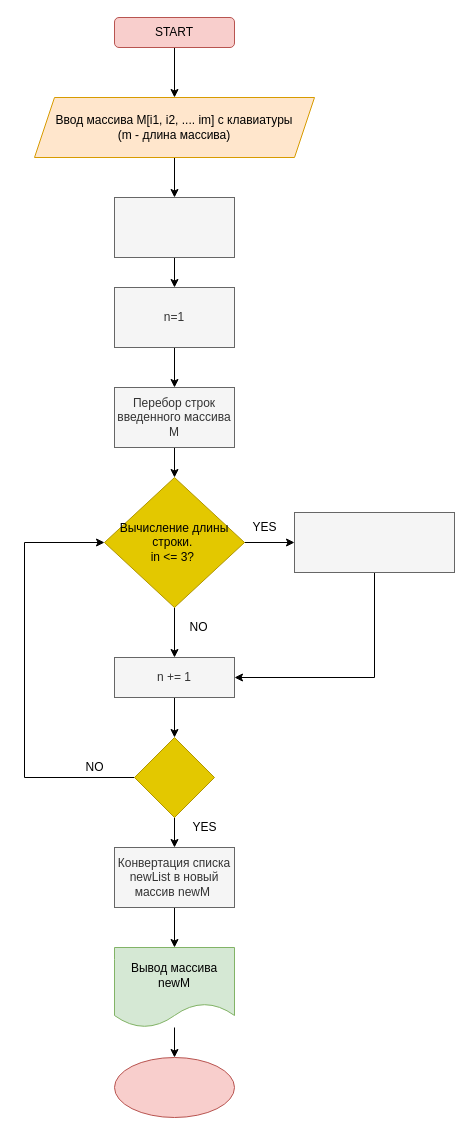
Some shapes in this 472 by 1135 pixel diagram are drawn without their labels. Here are the shapes that lost their labels. From the top down, the centre of each, then its label:
At point 174,227: "Создание нового пустого списка newList=()".
At point 374,542: "Добавление строки в список newList += in".
At point 174,777: "n > m?".
At point 174,1087: "END".
